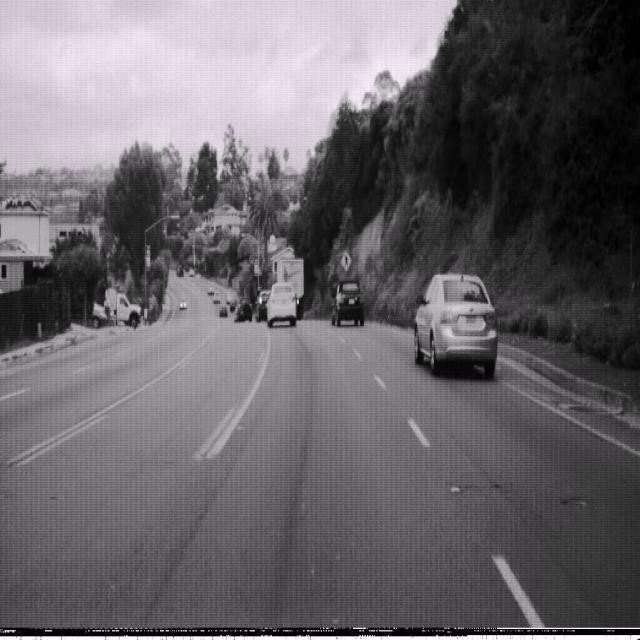pedestrianCrossing: (339, 248, 352, 273)
